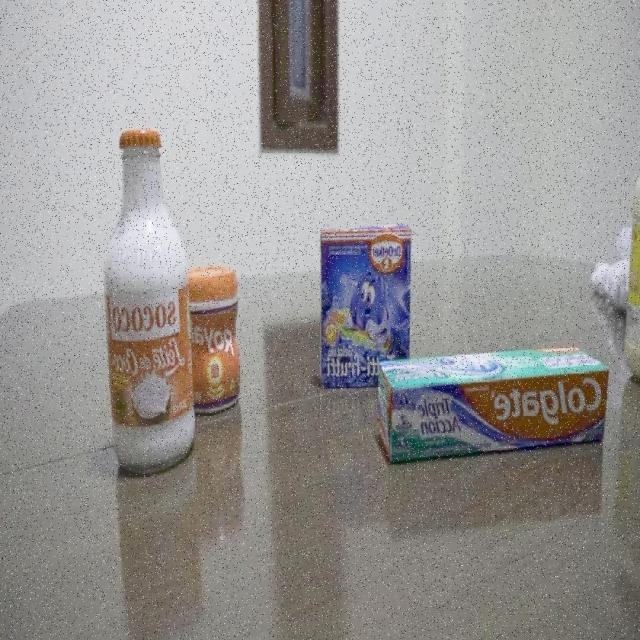CoconutMilk: (102, 128, 194, 480)
Gelatine: (320, 224, 412, 393)
Toothpaste: (374, 344, 609, 476)
Yeast: (188, 267, 243, 423)
